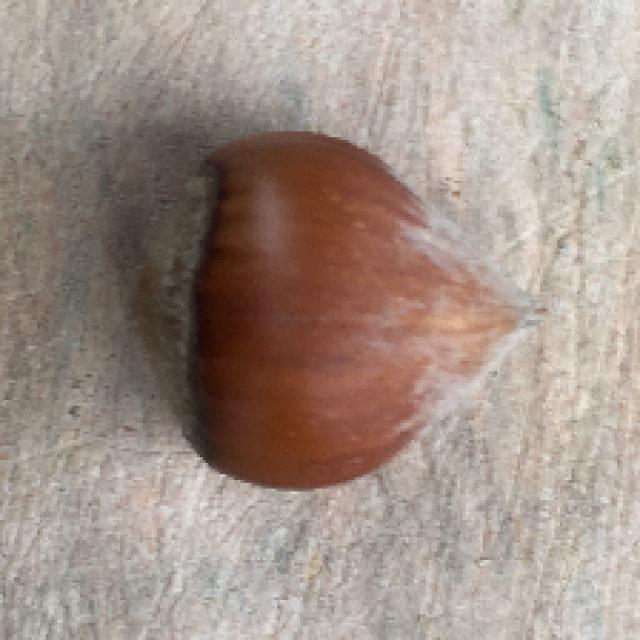QualityHazelnut: (134, 133, 552, 493)
